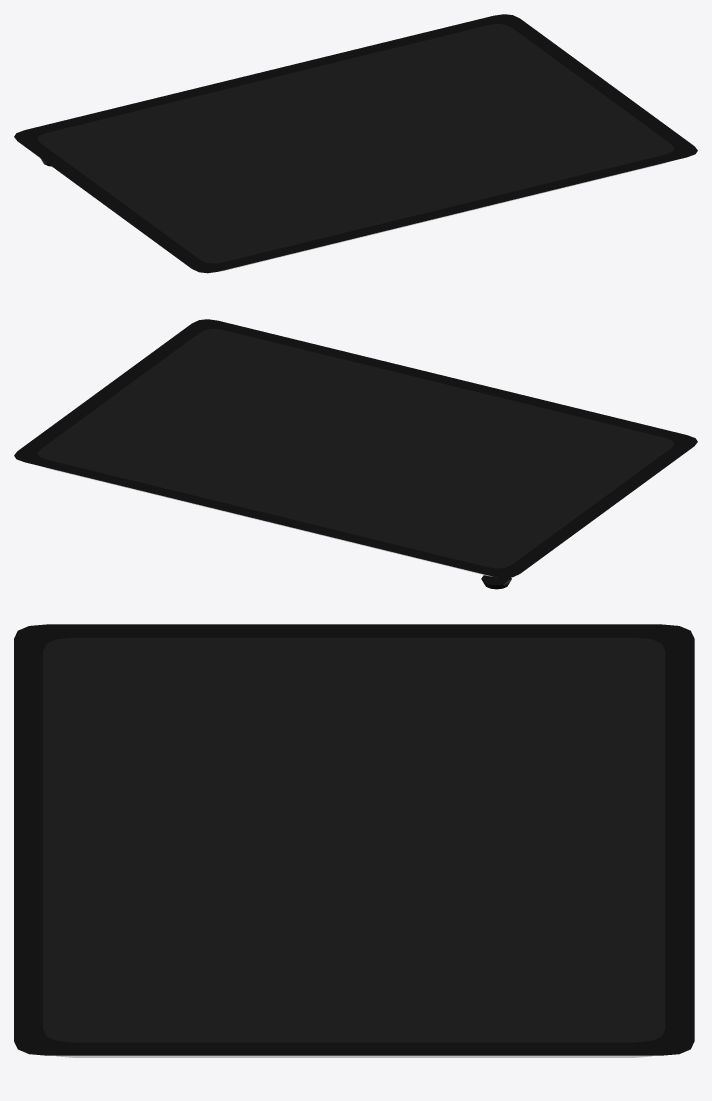
Rendered from Fit_iPad_2X3_off.FBX.
3 renders of one model, top to bottom at view 1: azimuth 30°, elevation 25°; view 2: azimuth 150°, elevation 25°; view 3: azimuth 270°, elevation 25°, orthographic. The views are drawn at different scales.
Parts seen in each view (by area): view 1: Box001; view 2: Box001; view 3: Box001.
Part boxes in pixels (box(x1,y1,x2,y2)): Box001: box(14, 14, 697, 273); Box001: box(14, 319, 697, 589); Box001: box(14, 624, 694, 1057).
Size of the model in its own units: 3.01 by 0.13 by 2.01.
